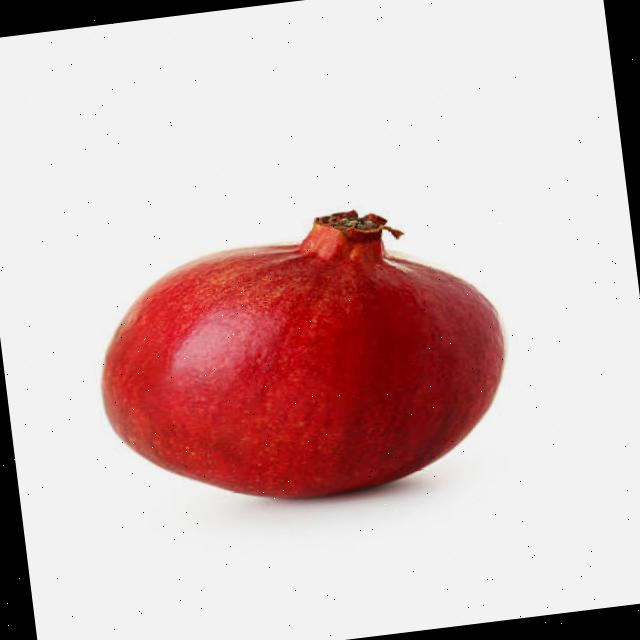Ripe: (69, 185, 530, 524)
